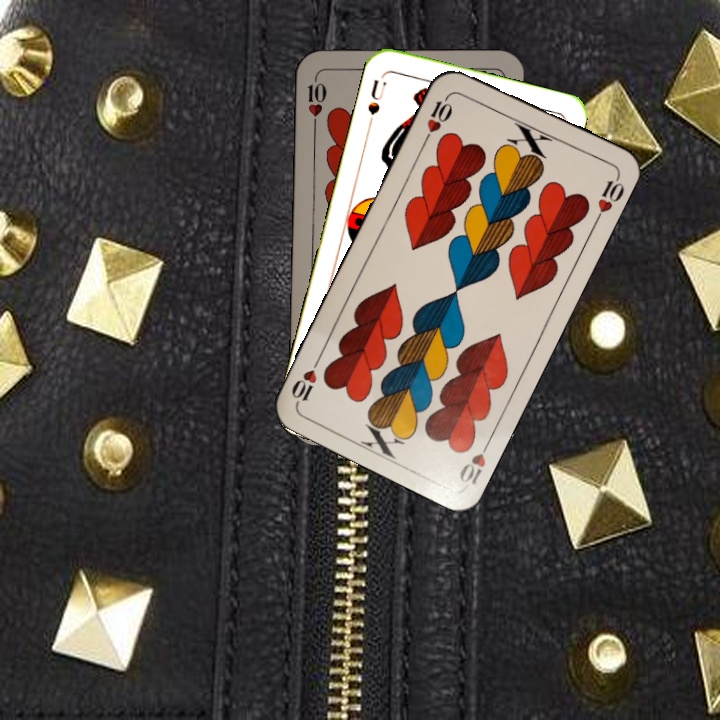H10: (455, 434, 494, 488), (420, 90, 455, 145), (304, 70, 329, 130)
SU: (363, 71, 390, 130)
